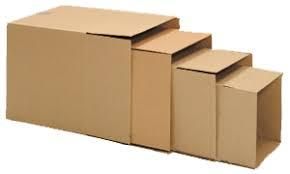Cardboard: (4, 10, 290, 171)
